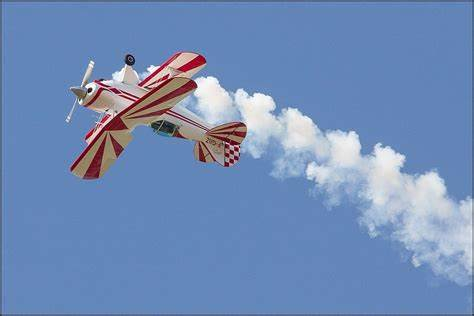Aeronef_de_loisir: (45, 39, 266, 187)
